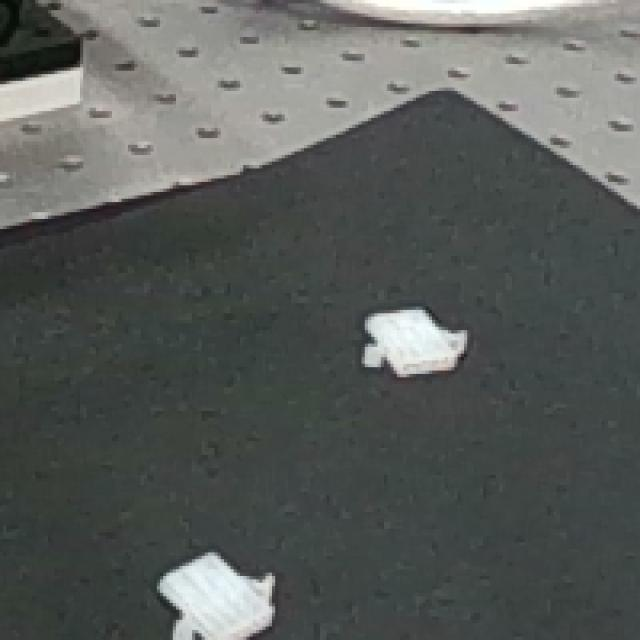pick: (125, 502, 307, 640), (350, 278, 486, 398)
